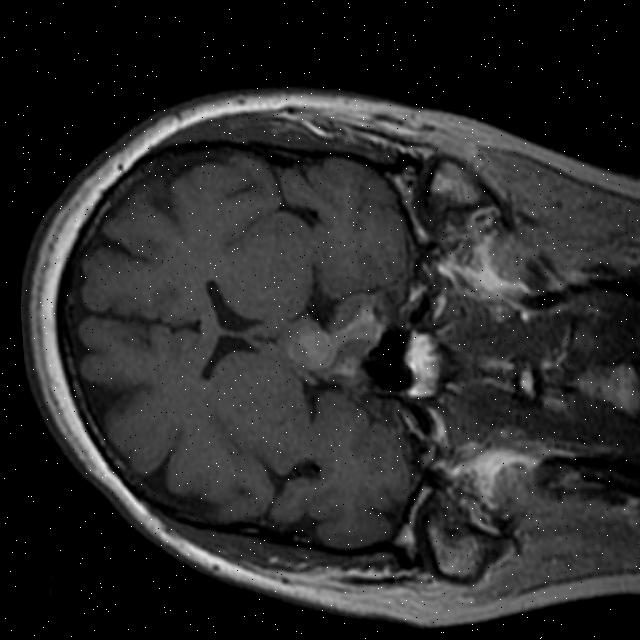Pituitary: (281, 293, 390, 383)
